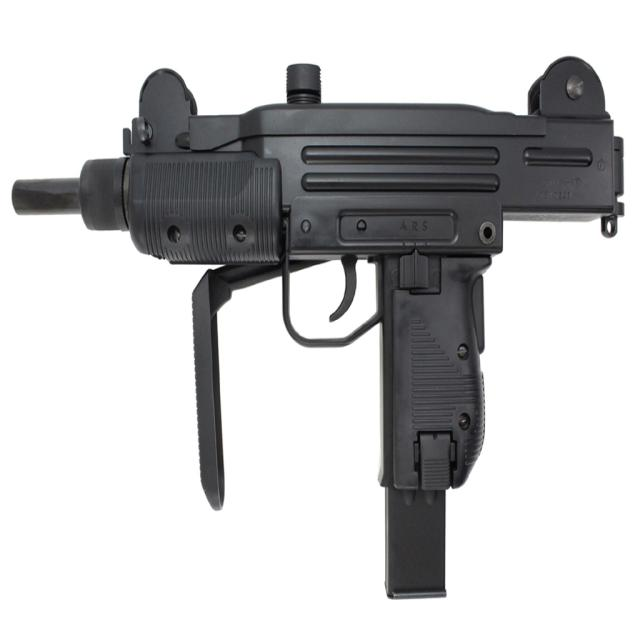SMG: (12, 57, 628, 602)
